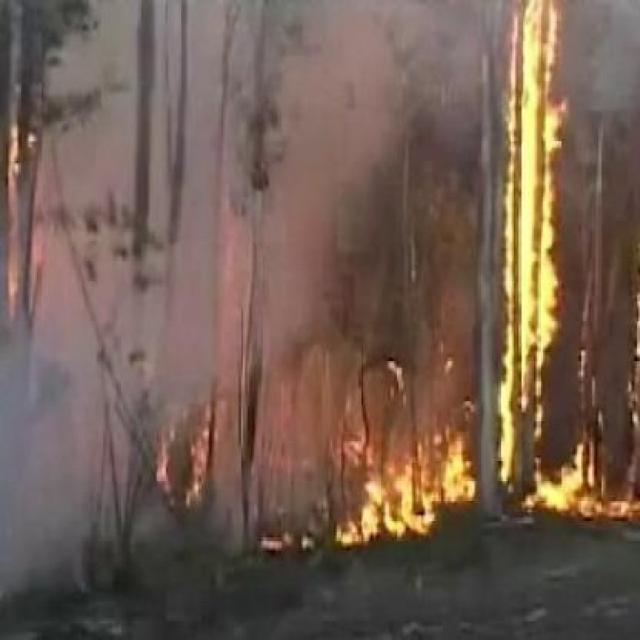Fire: (453, 0, 630, 540)
Smoke: (0, 0, 421, 619)
